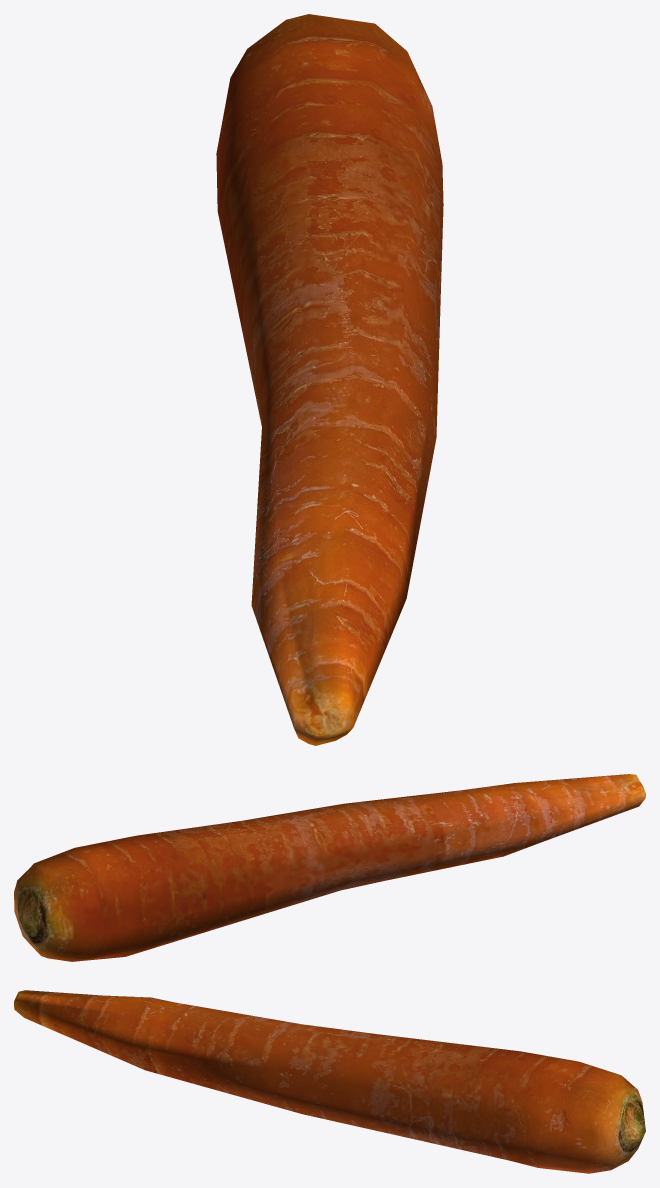
Rendered from carrot.fbx.
The picture shows the model from 3 angles, top to bottom: view 1: azimuth 30°, elevation 25°; view 2: azimuth 150°, elevation 25°; view 3: azimuth 270°, elevation 25°; orthographic projection. The views are drawn at different scales.
Visible parts, largest first — view 1: Carrot; view 2: Carrot; view 3: Carrot.
Boxes of the visible parts, x1=… form: Carrot: x1=216, y1=14, x2=443, y2=745; Carrot: x1=14, y1=774, x2=645, y2=961; Carrot: x1=14, y1=990, x2=645, y2=1173.
Size of the model in its own units: 14 by 4.04 by 22.35.
